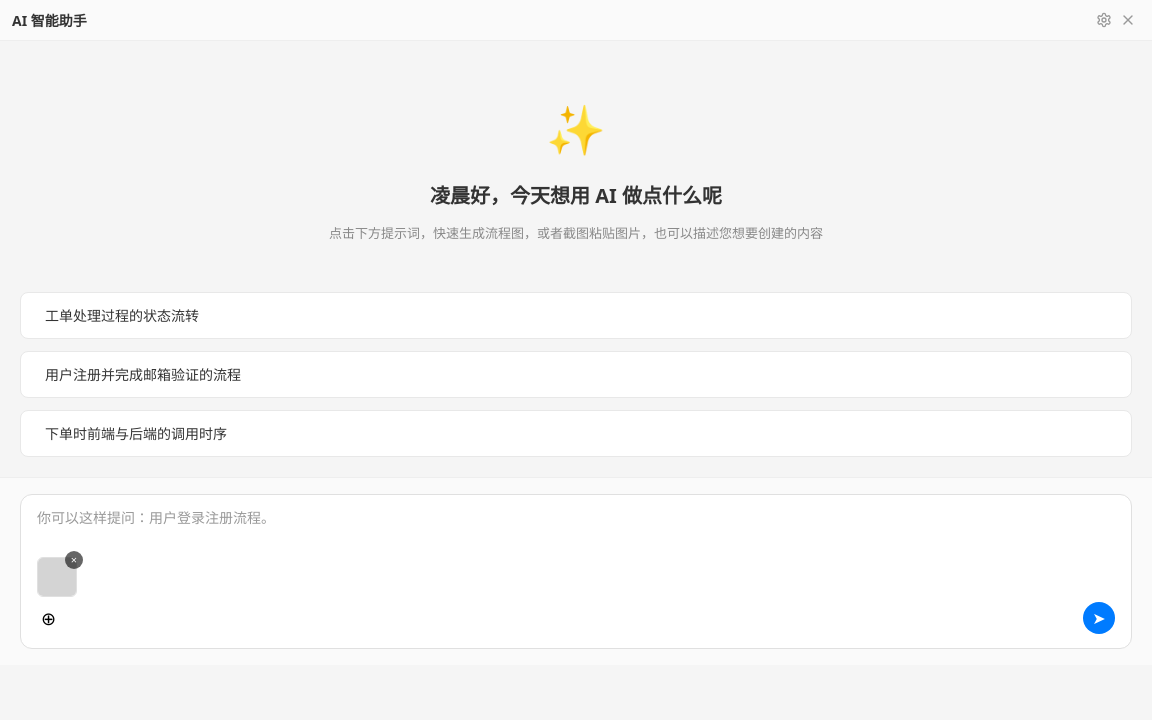
AIChatPanel 图片粘贴与预览 › 点击移除按钮清空待发送图片
Click the button named "移除图片 1" at {"x": 74, "y": 560}, box [65, 551, 83, 569]
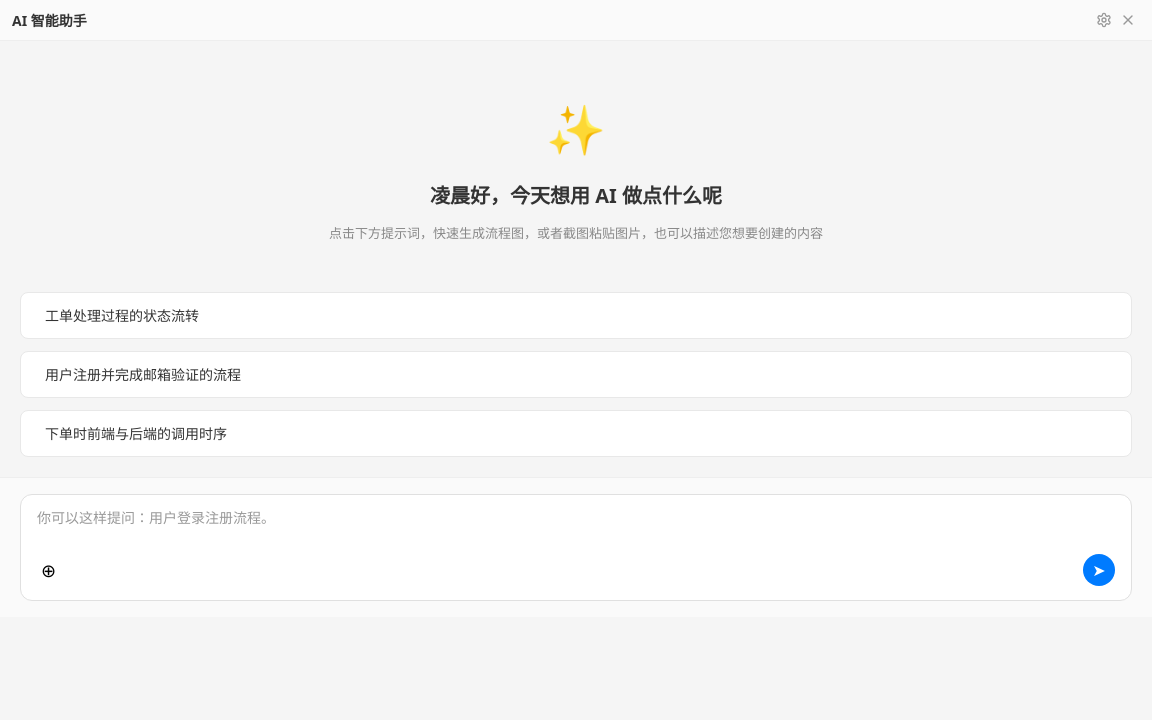
Expected: the element with test id "pending-images" is gone
